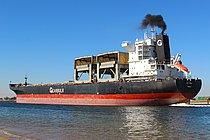Ship: (5, 20, 205, 111)
